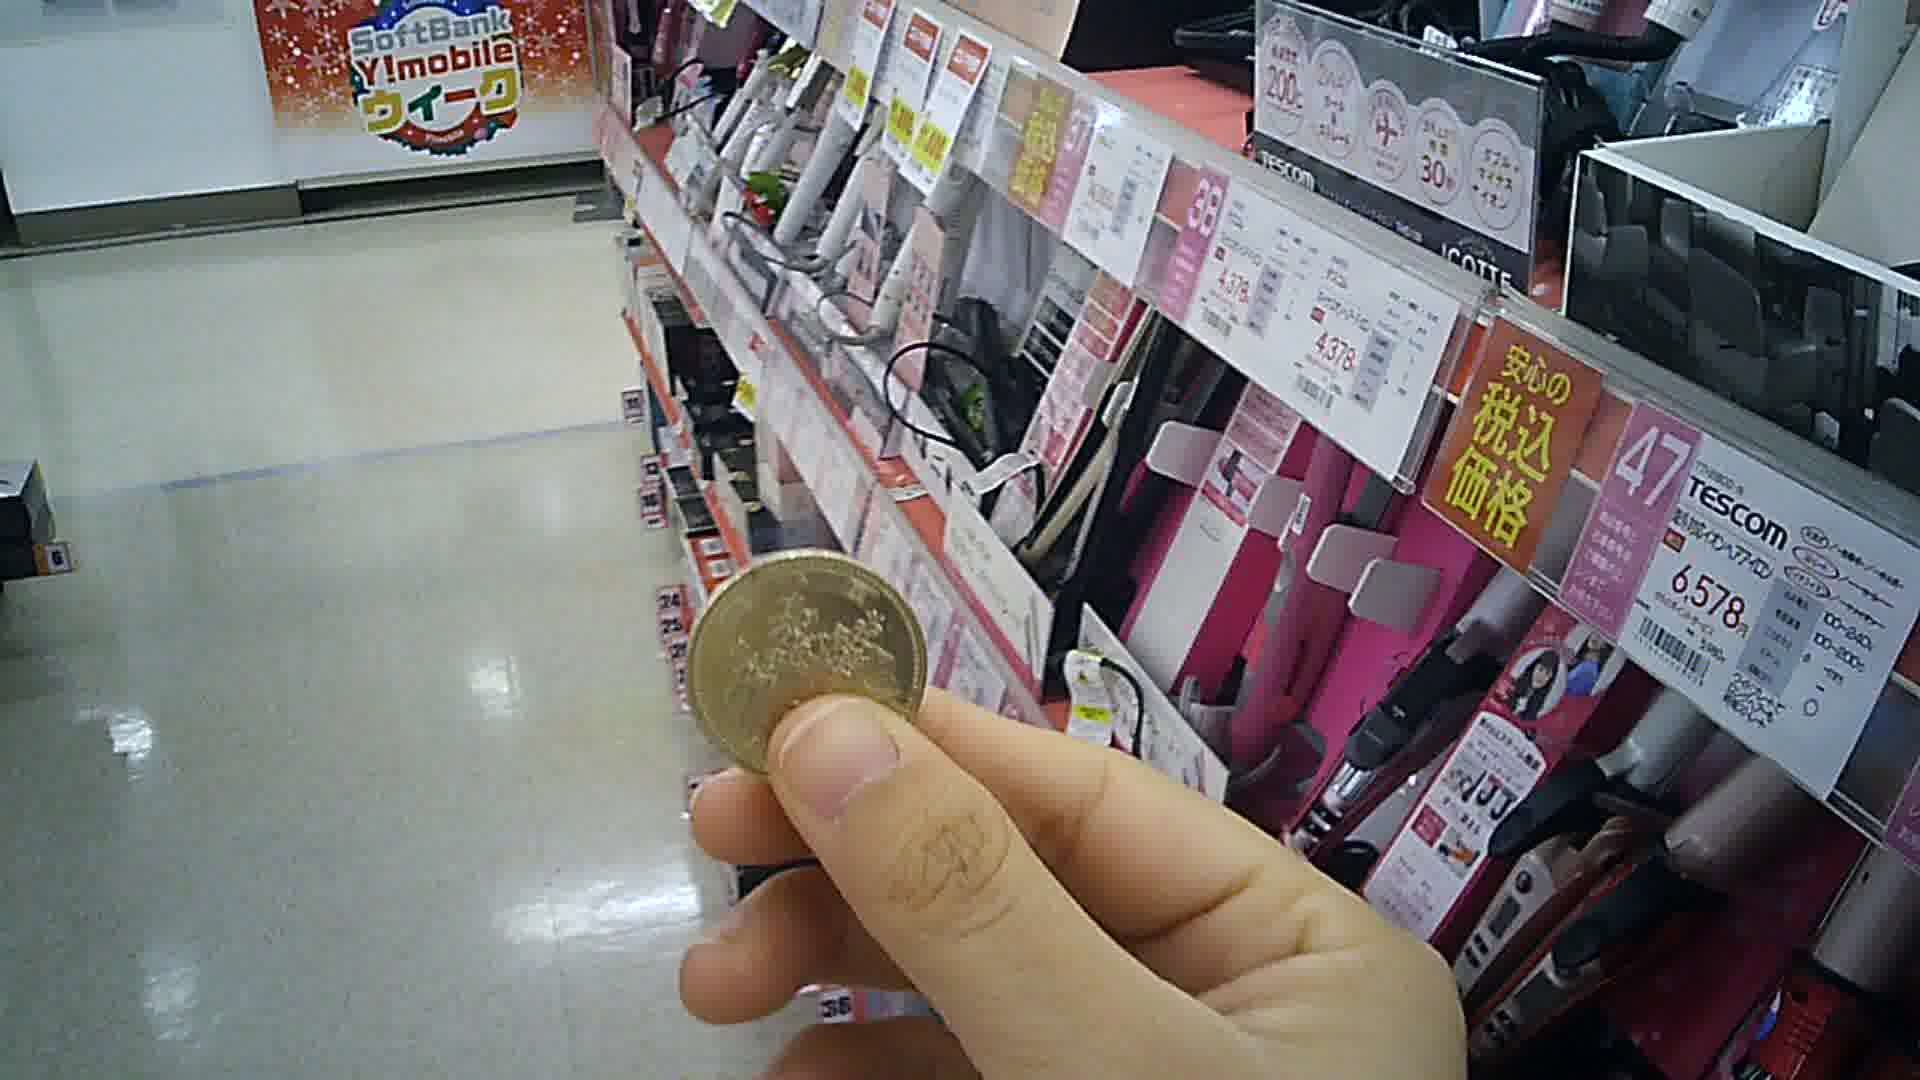500 Yen: (680, 551, 928, 786)
